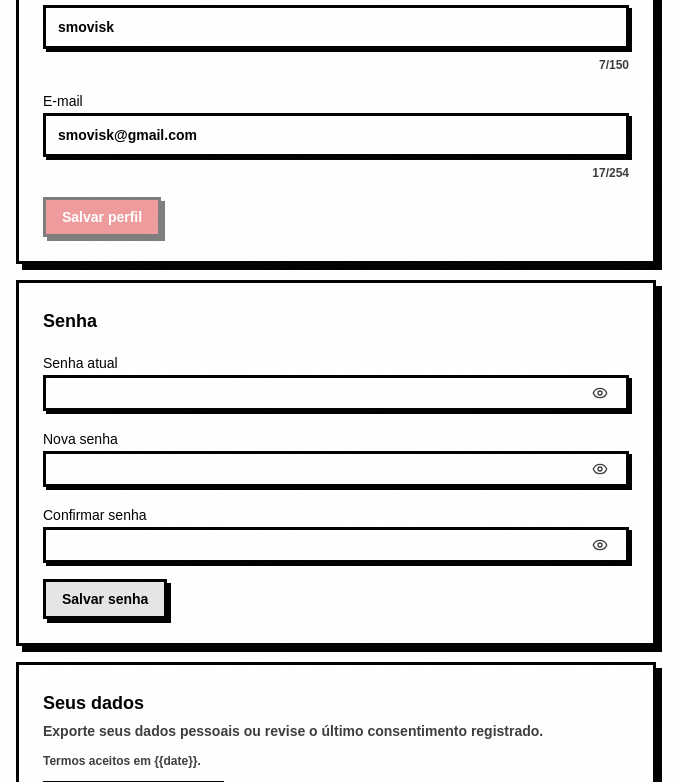
it: seção Alterar Senha › erro 400 em current_password exibe erro inline no campo
(page scrolled)
Type "errada" into the password field labelled "Senha atual" at [313, 393], box [46,371,580,415]
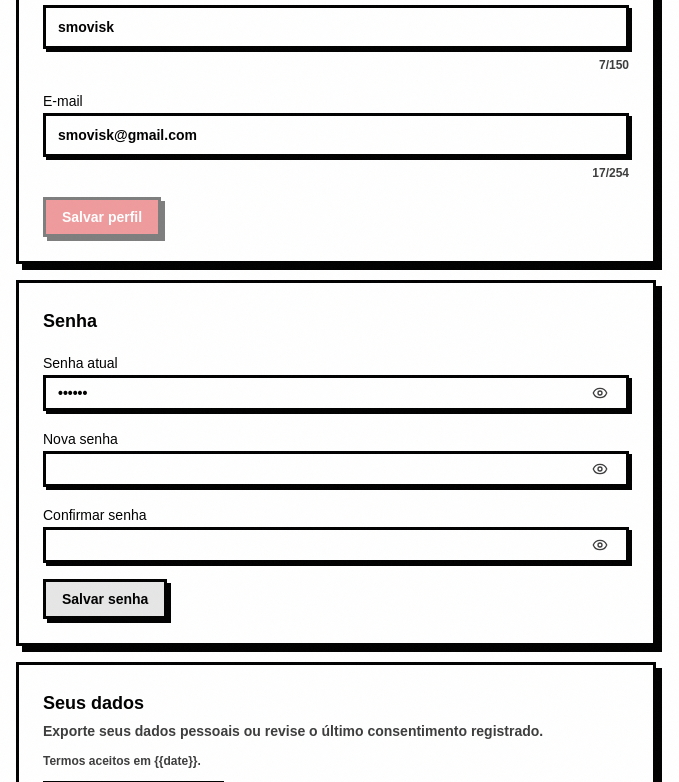
Type "novaSenha1!" into the password field labelled "Nova senha" at [313, 469], box [46,447,580,491]
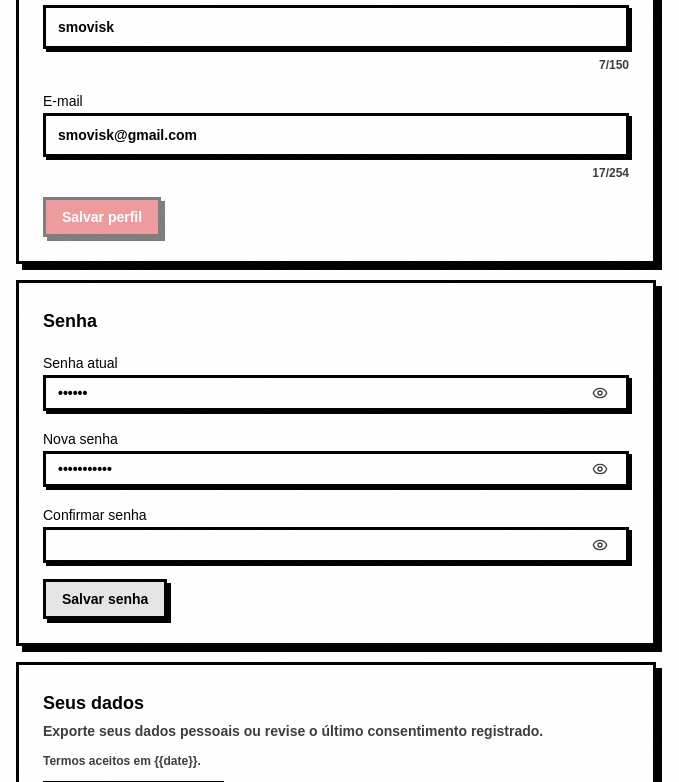
Type "novaSenha1!" into the password field labelled "Confirmar senha" at [313, 545], box [46,523,580,567]
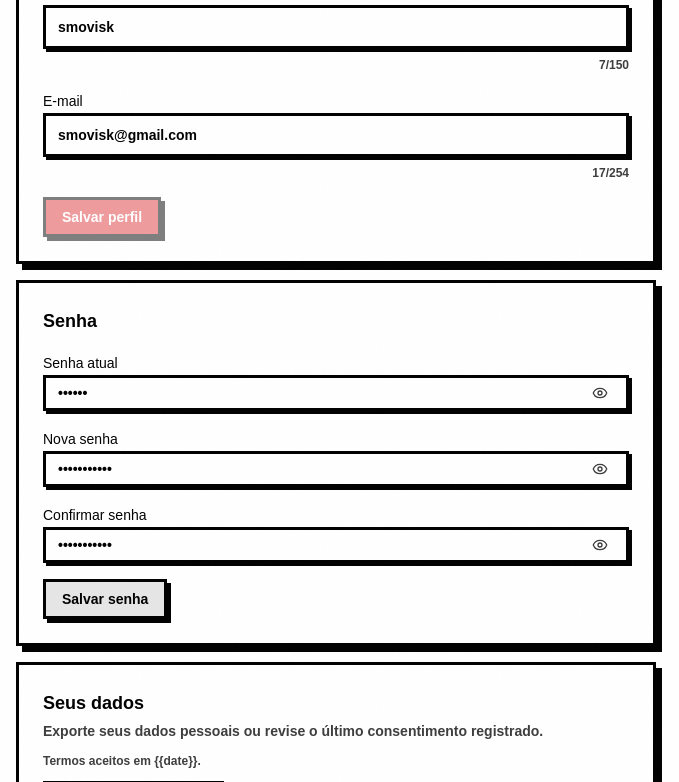
Click the button "Salvar senha" at [105, 599], box [43,579,167,619]
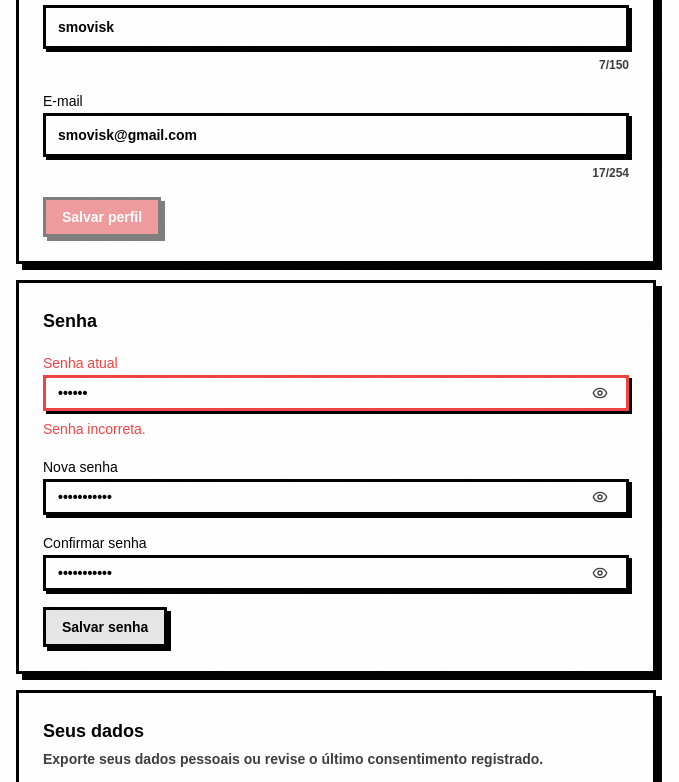
Now the text "Senha incorreta." is shown, box [43,421,146,437]
